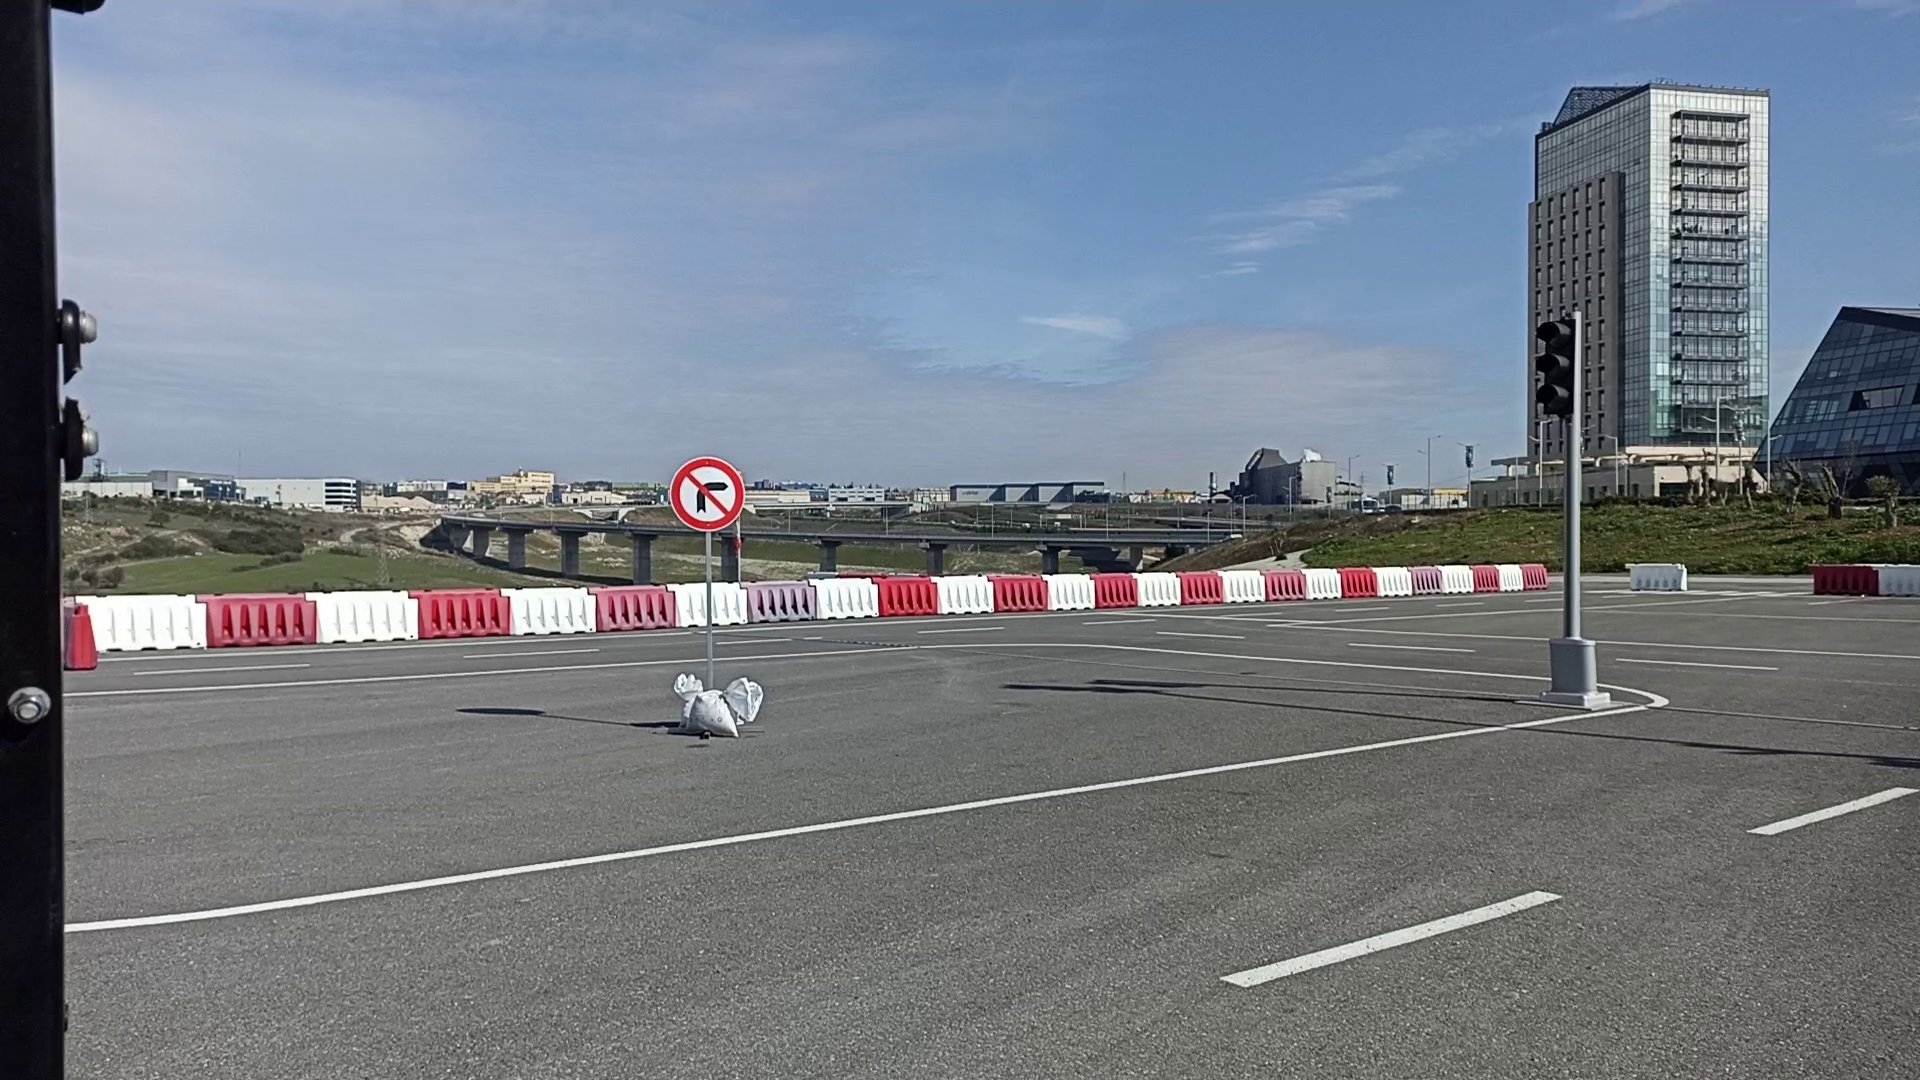noleftturn: (669, 455, 746, 533)
trafficlight: (1532, 307, 1584, 417)
